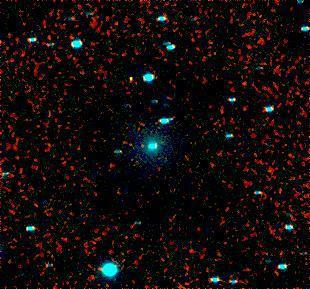star: (113, 65, 143, 95)
